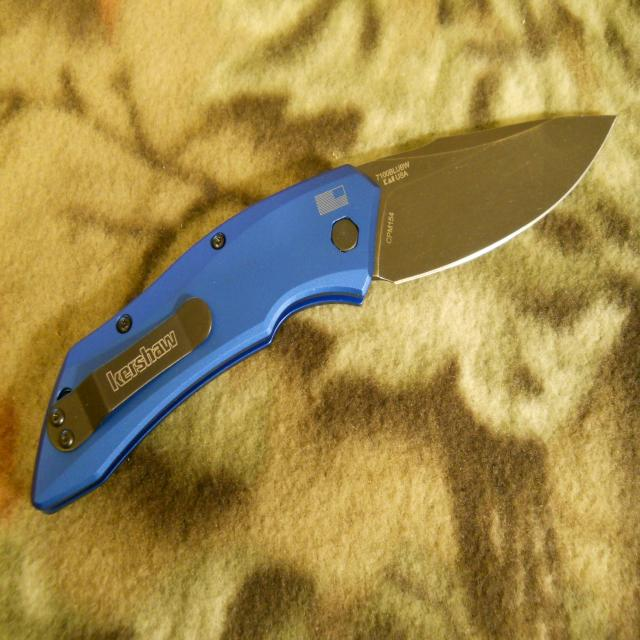knife: (34, 108, 619, 520)
